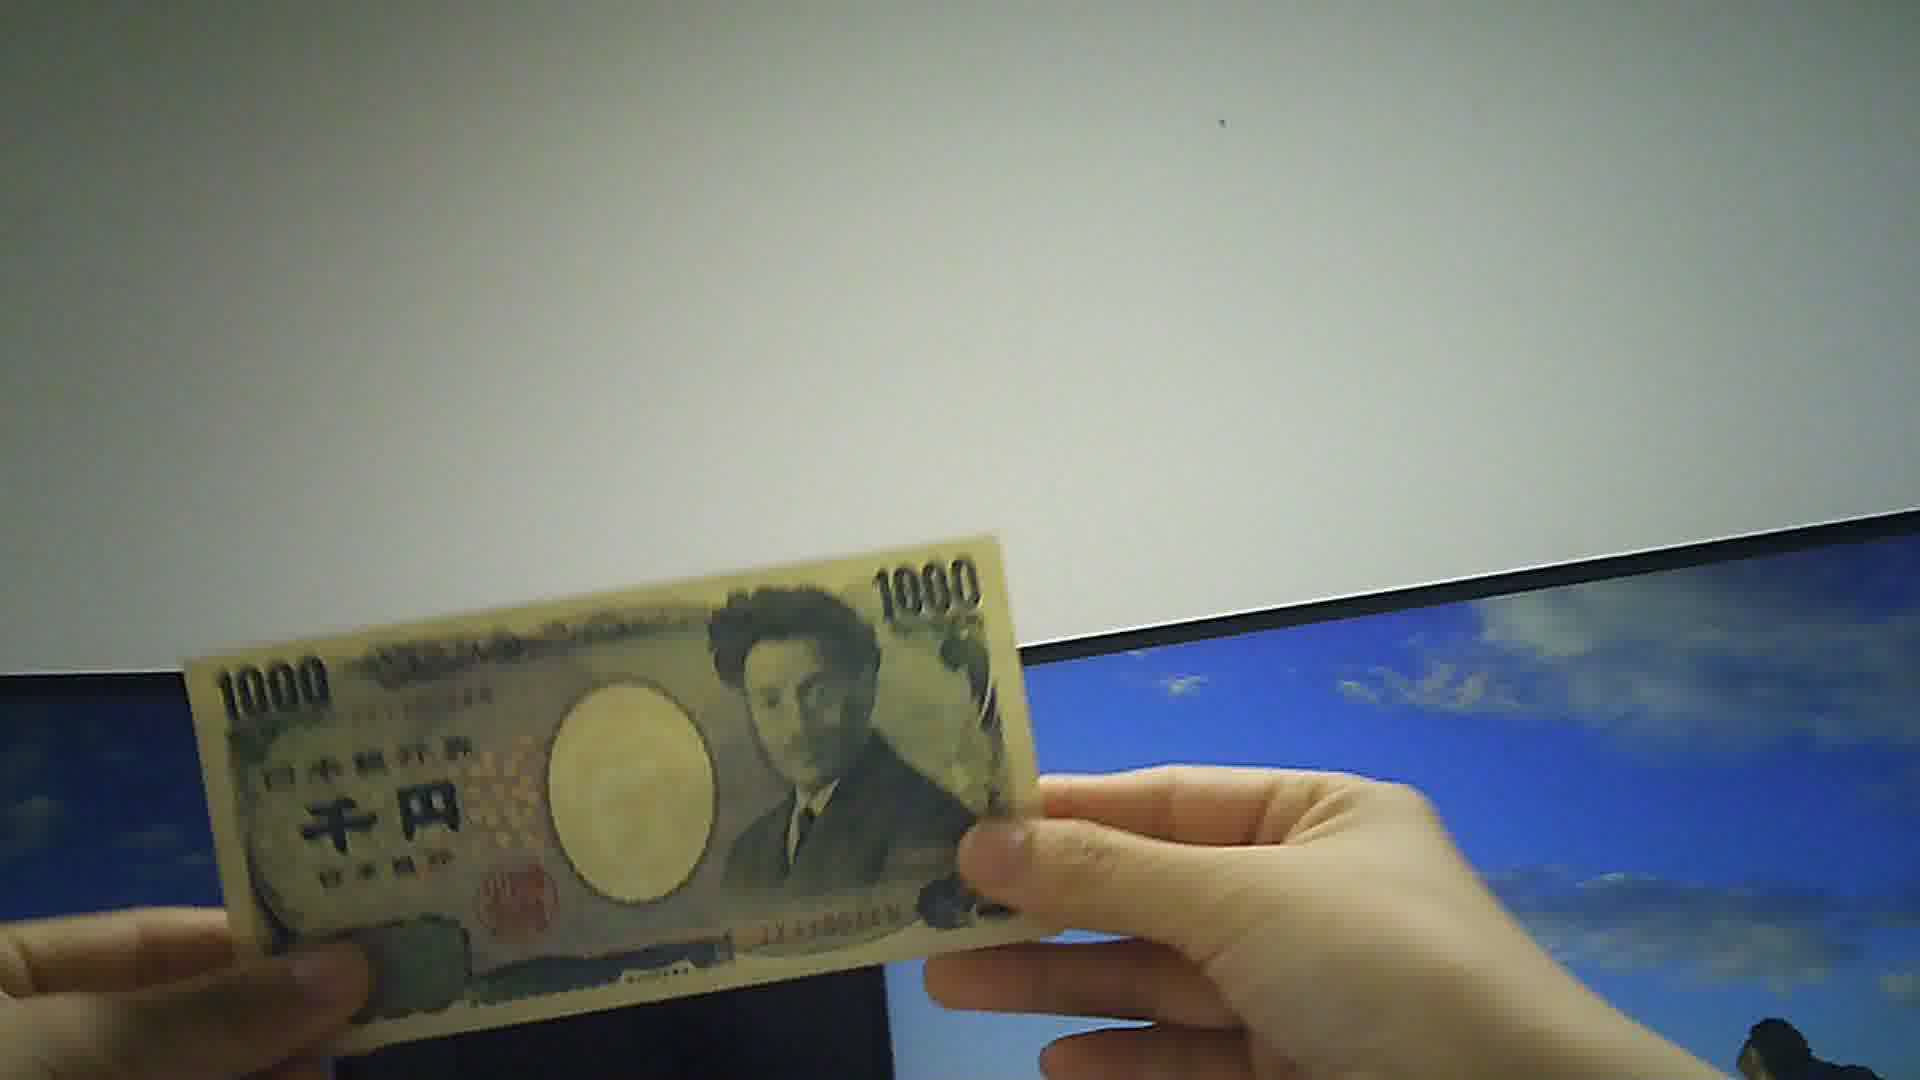1,000 Yen: (160, 531, 1068, 1054)
